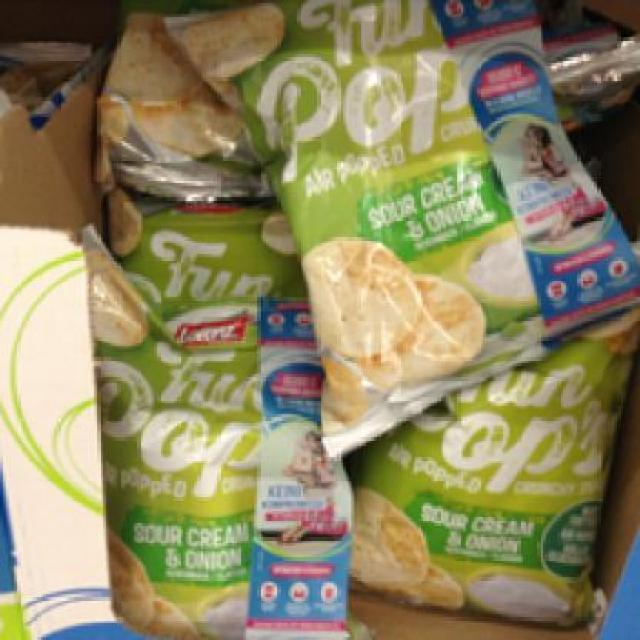Chips: (166, 0, 632, 429), (82, 242, 352, 635)
